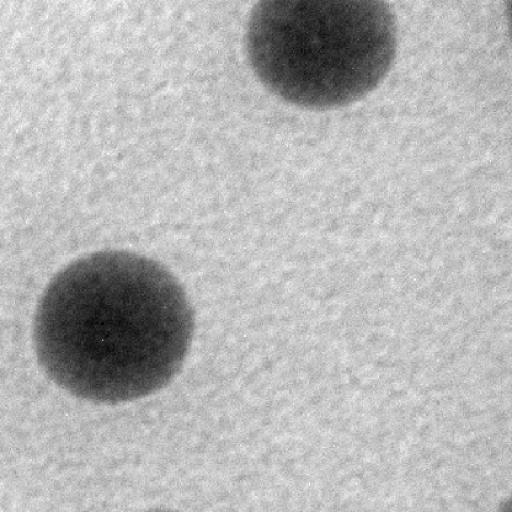Nanoparticles: (32, 250, 196, 407), (247, 0, 399, 109)
